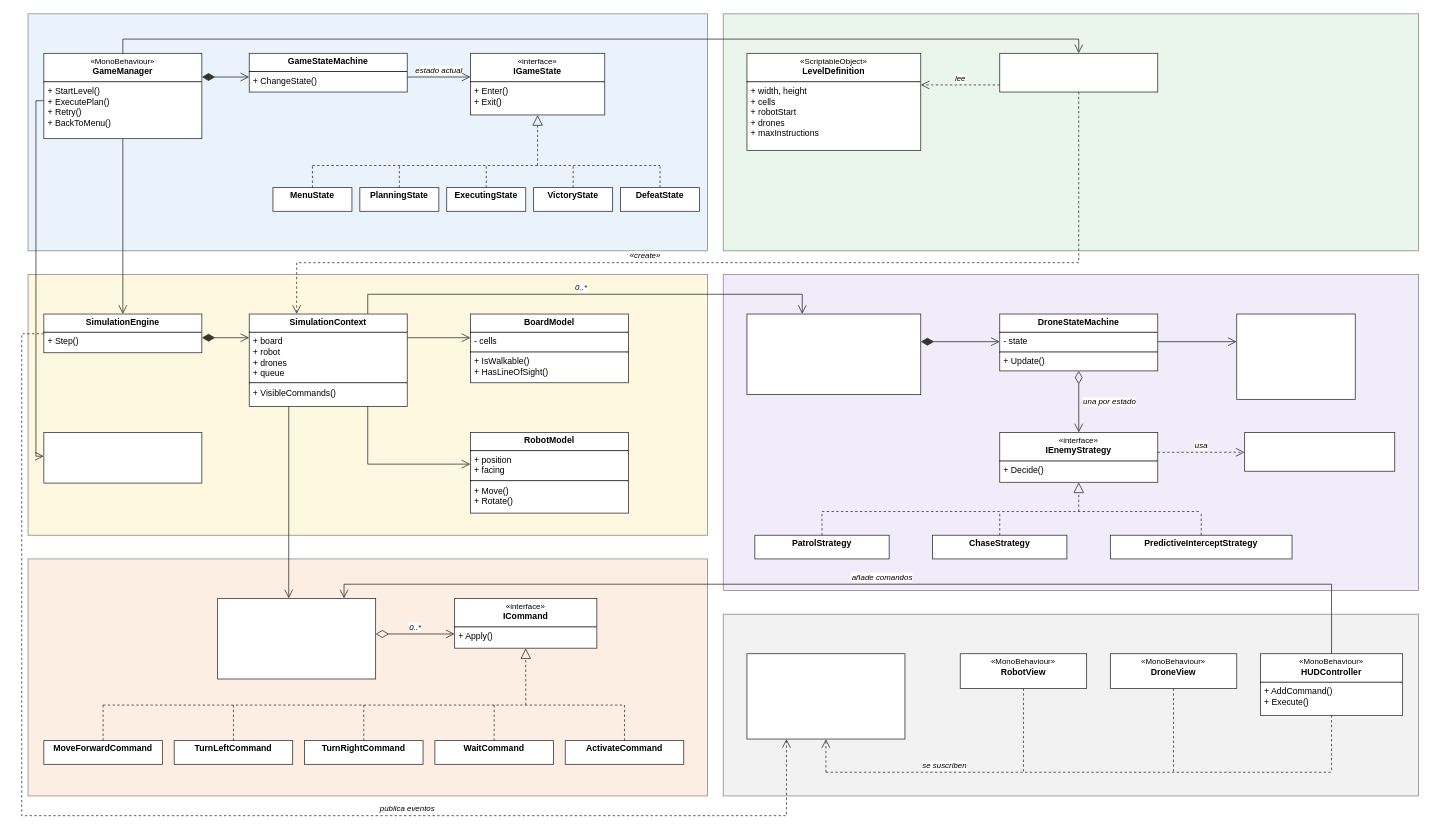
The diagram is 1432 pixels wide and 838 high, and some of its shapes have lost their labels. Here are the shapes that lost their labels. From the top down, the box of each, then its label:
(999, 53, 1158, 92): LevelFactory + Build()
(27, 13, 707, 251): Control de partida
(722, 13, 1418, 251): Niveles
(746, 313, 921, 395): DroneModel + position + lastSeen + Perceive() + Act()
(1236, 313, 1355, 399): «enumeration» EnemyState Patrol Chase Search Return
(27, 274, 707, 535): Simulación (C# puro)
(722, 274, 1418, 591): IA enemiga
(1244, 432, 1395, 471): PathfindingService + FindPath() (A*)
(43, 432, 202, 483): ScoreManager + Compute() + SaveBest()
(217, 598, 376, 679): CommandQueue - commands + Add() + RemoveLast() + Next()
(27, 558, 707, 796): Comandos del robot
(746, 653, 905, 739): «static» GameEvents + OnTick + OnRobotMoved + OnRobotCaptured + OnLevelWon
(722, 613, 1418, 796): Presentación e interfaz
